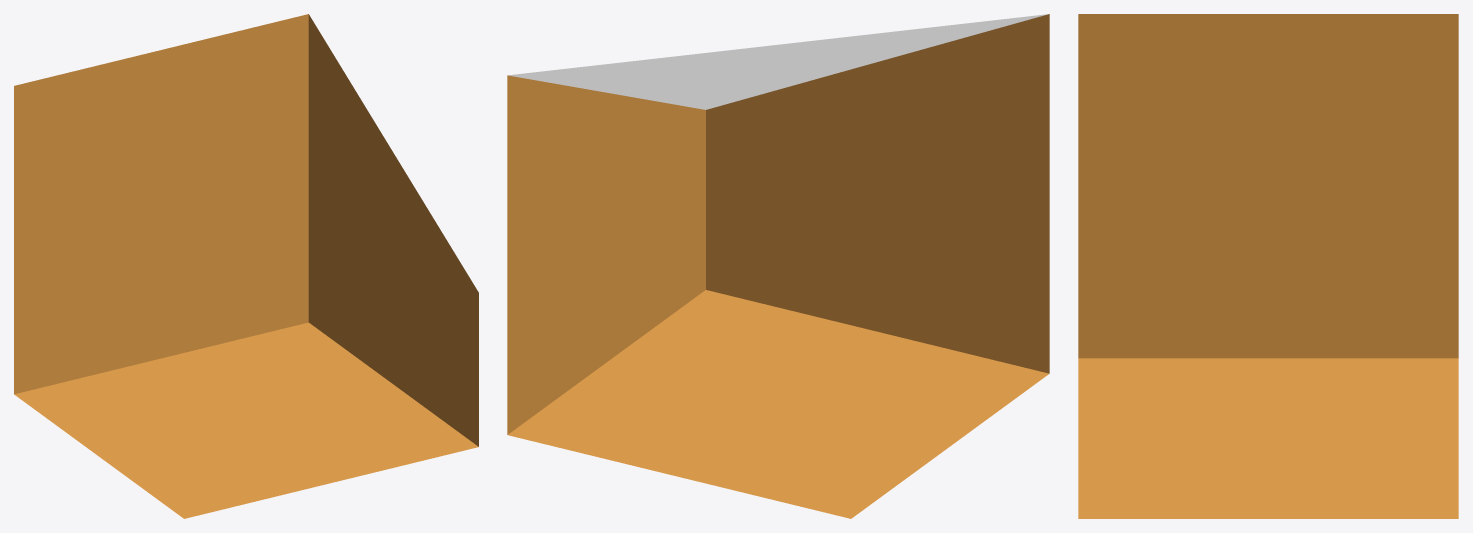
Rendered from r1c5_border_orange.gltf.
3 views of the same model, side by side, from view 1: azimuth 30°, elevation 25°; view 2: azimuth 150°, elevation 25°; view 3: azimuth 270°, elevation 25° (orthographic). The views are drawn at different scales.
Parts seen in each view (by area): view 1: r1c5_border_orange; view 2: r1c5_border_orange; view 3: r1c5_border_orange.
Boxes of the visible parts, left/top/right/bottom form: r1c5_border_orange: left=14, top=14, right=478, bottom=518; r1c5_border_orange: left=507, top=14, right=1049, bottom=518; r1c5_border_orange: left=1078, top=14, right=1458, bottom=518.
Bounding box in the file's own units: 2.1 × 2.1 × 2.1.
1 material, 1 textured.
